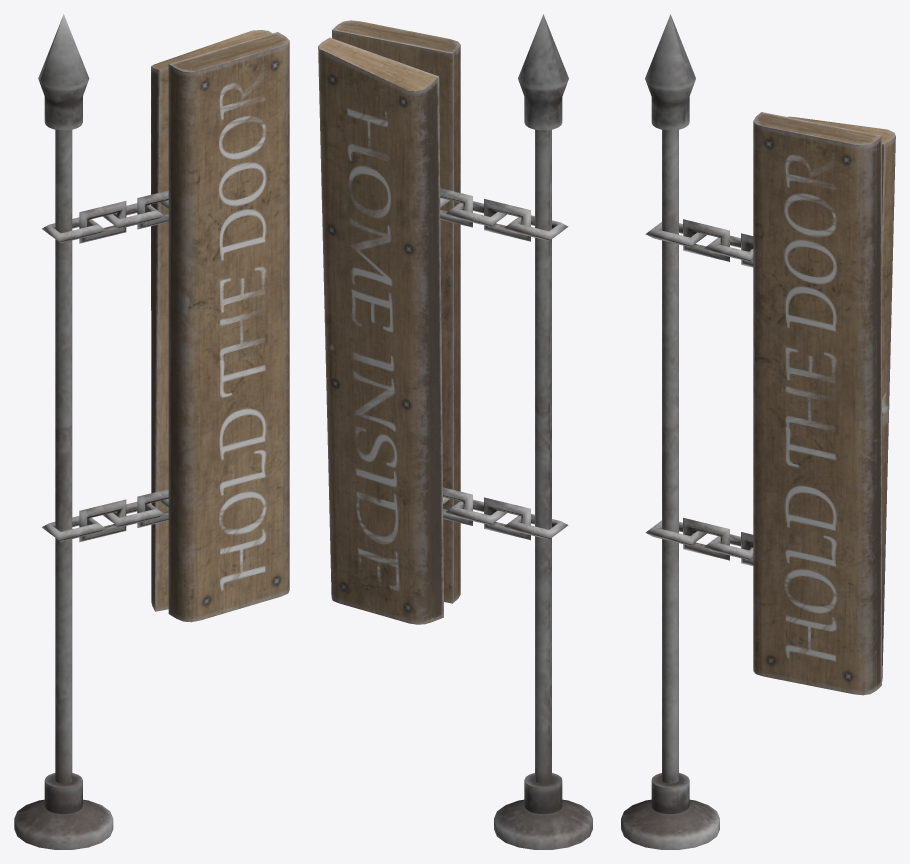
Rendered from SM_Sign07.FBX.
3 renders of one model, left to right at view 1: azimuth 30°, elevation 25°; view 2: azimuth 150°, elevation 25°; view 3: azimuth 330°, elevation 25°, orthographic.
Visible parts, largest first — view 1: SM_Sign07; view 2: SM_Sign07; view 3: SM_Sign07.
Part boxes in pixels (left/top/right/bottom): SM_Sign07: left=14, top=14, right=289, bottom=849; SM_Sign07: left=318, top=14, right=592, bottom=849; SM_Sign07: left=621, top=14, right=895, bottom=849.
Bounding box in the file's own units: 29.93 × 9.93 × 90.29.
